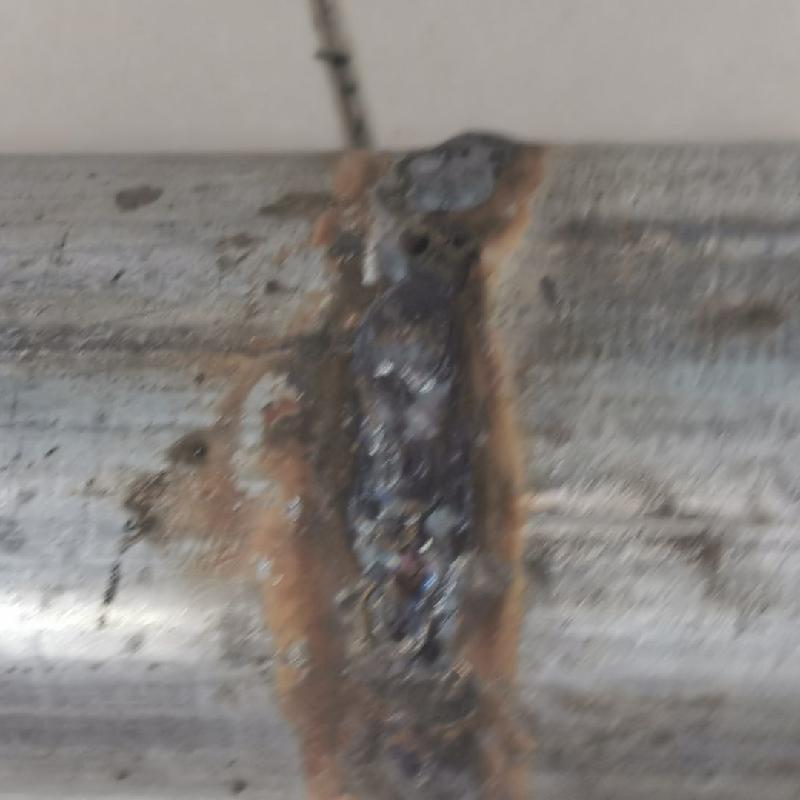Surface_pores: (391, 211, 475, 269), (379, 612, 416, 655)
crater: (335, 388, 486, 671)
wrong_size: (366, 127, 512, 388)
